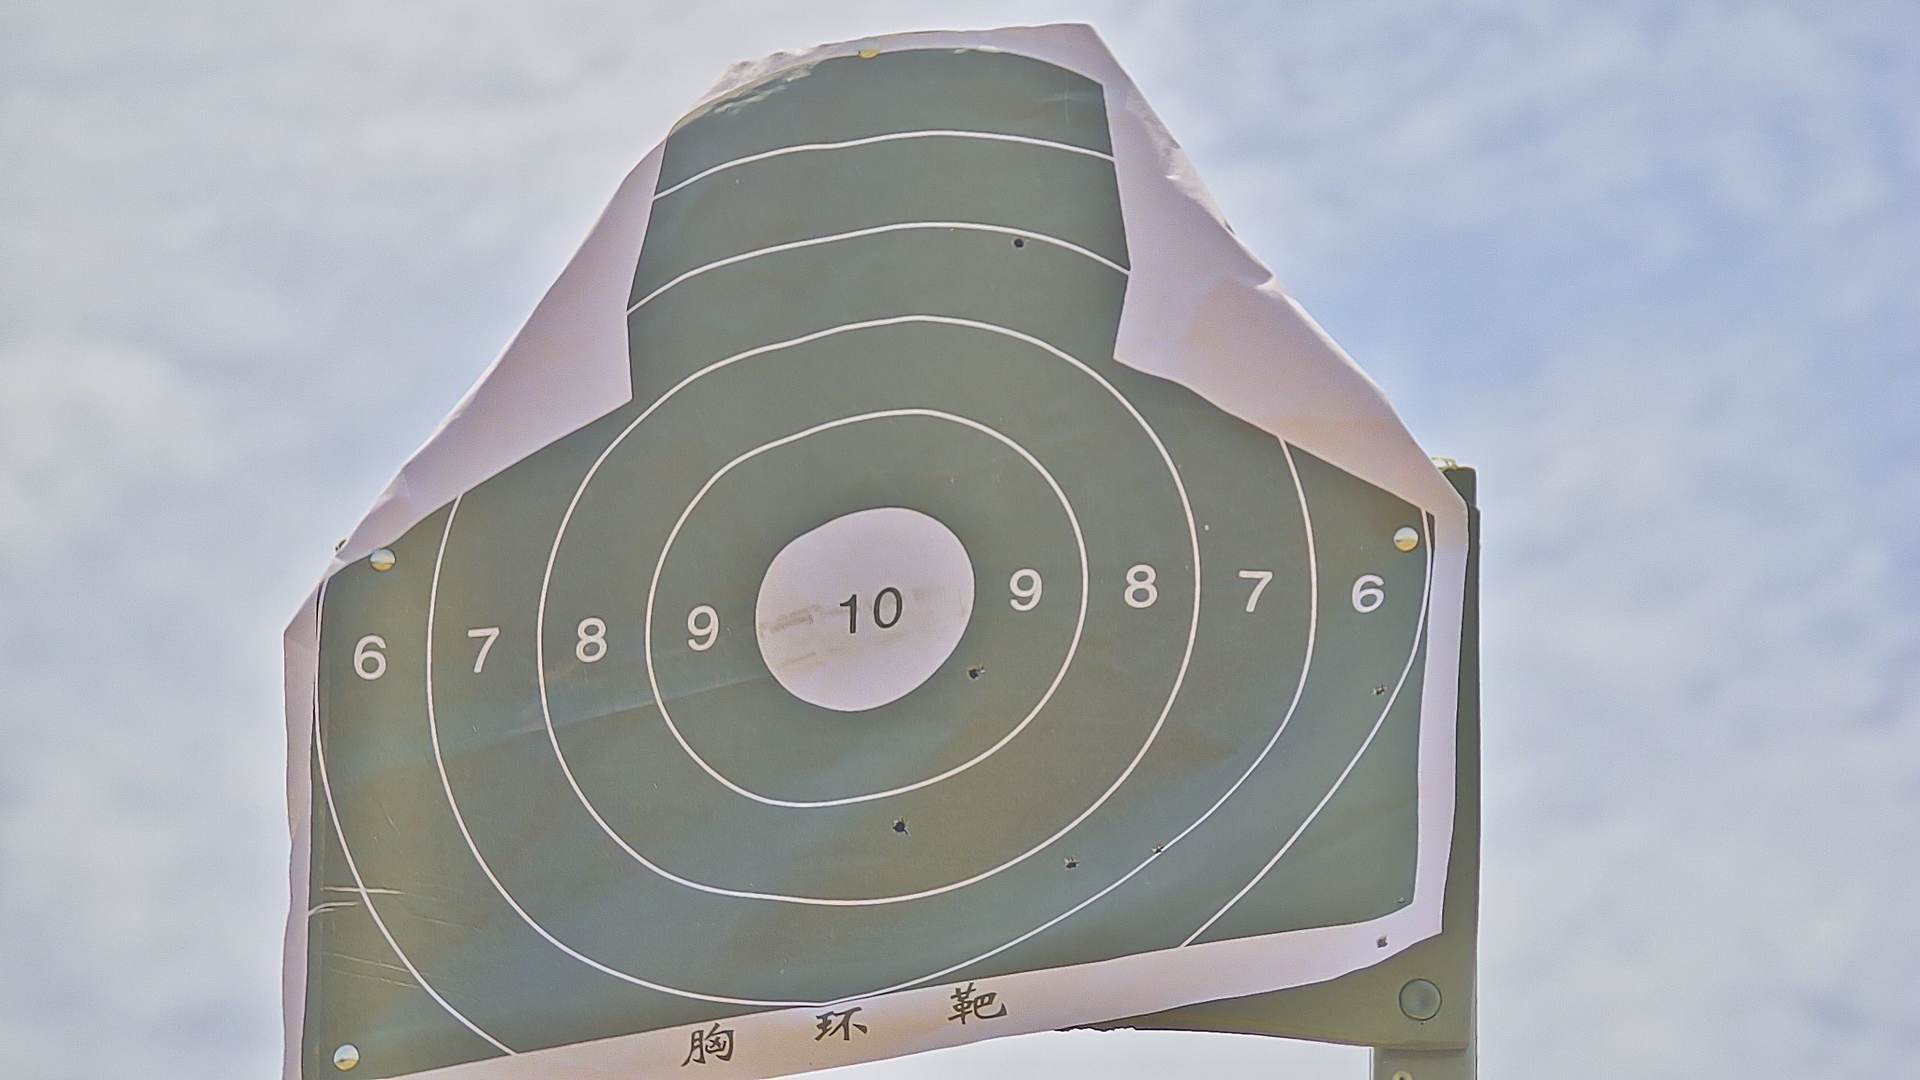hole: (889, 816, 910, 836), (1370, 678, 1389, 696), (1146, 843, 1164, 860), (965, 665, 985, 680), (1064, 856, 1077, 874), (1011, 235, 1027, 249)
target: (301, 45, 1443, 1044)
ten: (752, 506, 971, 713)
